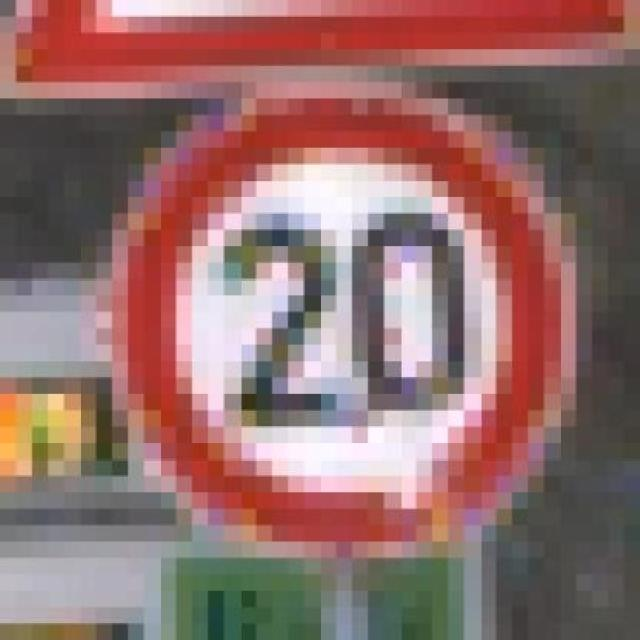forb_speed_over_20: (117, 86, 569, 557)
